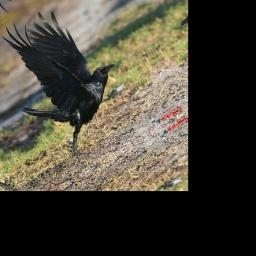Crow: (0, 0, 147, 170)
